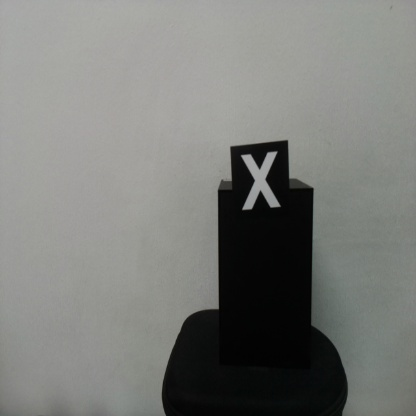id_13: (230, 145, 289, 225)
